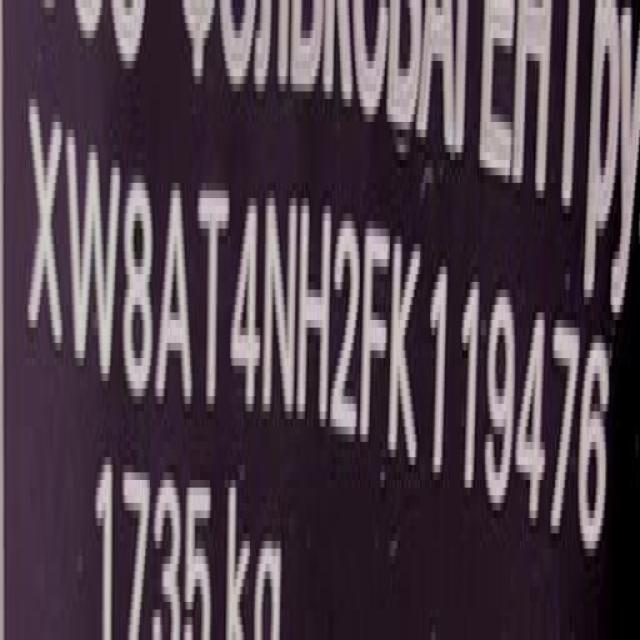1: (427, 254, 448, 493), (461, 279, 481, 505)
2: (332, 210, 362, 448)
4: (516, 302, 548, 536), (232, 185, 261, 421)
6: (582, 336, 611, 559)
7: (550, 319, 581, 551)
8: (123, 170, 156, 404)
9: (485, 286, 515, 517)
A: (154, 172, 193, 412)
F: (358, 210, 391, 462)
H: (294, 195, 334, 435)
K: (388, 223, 422, 484)
N: (260, 186, 298, 408)
T: (200, 177, 231, 408)
W: (68, 124, 122, 390)
X: (28, 100, 66, 372)
